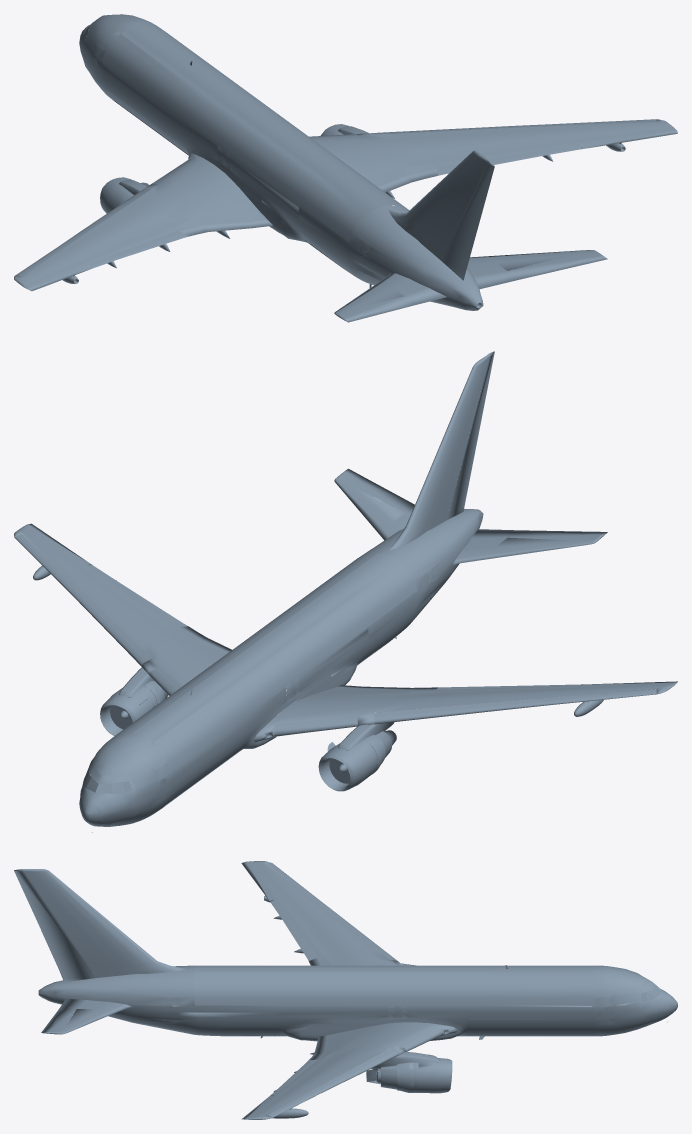
3 views of the same model, one above another, from view 1: azimuth 30°, elevation 25°; view 2: azimuth 150°, elevation 25°; view 3: azimuth 270°, elevation 25° (orthographic). The views are drawn at different scales.
Bounding box in the file's own units: 46.31 × 15.01 × 50.37.
